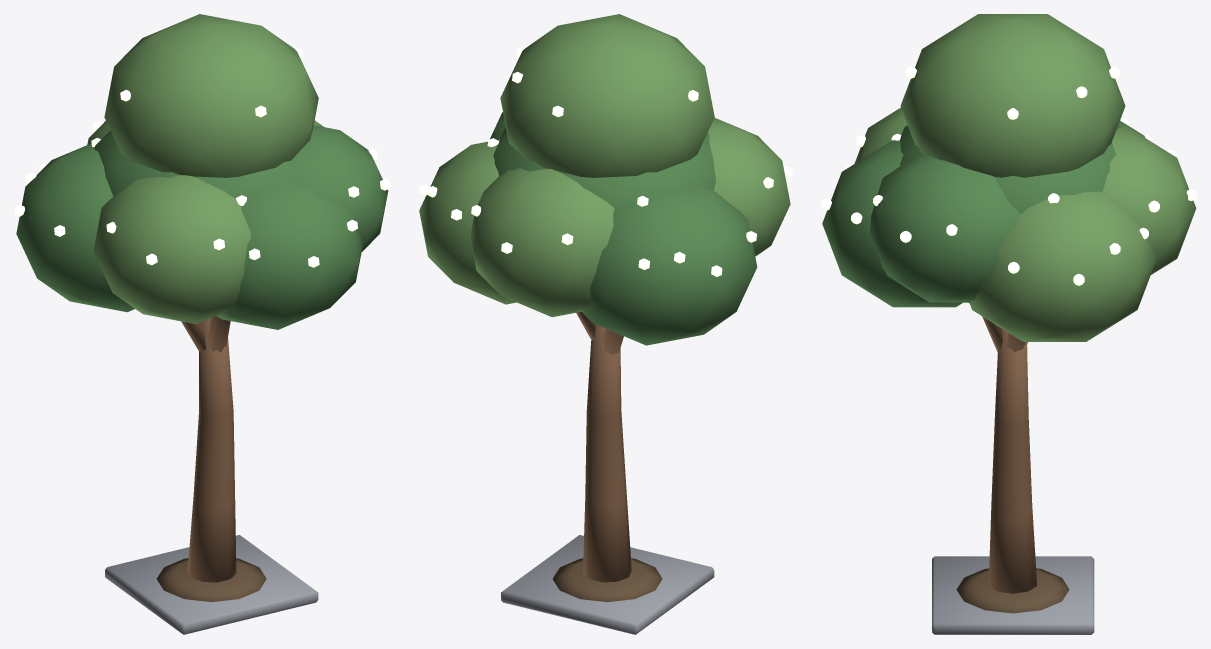
The model's file is prop_fairytree.glb.
3 renders of one model, left to right at view 1: azimuth 30°, elevation 25°; view 2: azimuth 150°, elevation 25°; view 3: azimuth 270°, elevation 25°, orthographic. The views are drawn at different scales.
Parts seen in each view (by area): view 1: Prop_FairyTree; view 2: Prop_FairyTree; view 3: Prop_FairyTree.
Boxes of the visible parts, left/top/right/bottom form: Prop_FairyTree: left=14, top=14, right=390, bottom=634; Prop_FairyTree: left=419, top=14, right=792, bottom=634; Prop_FairyTree: left=821, top=14, right=1196, bottom=634.
Size of the model in its own units: 3.01 by 5.21 by 3.06.
